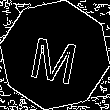M_N: (28, 26, 82, 84)
